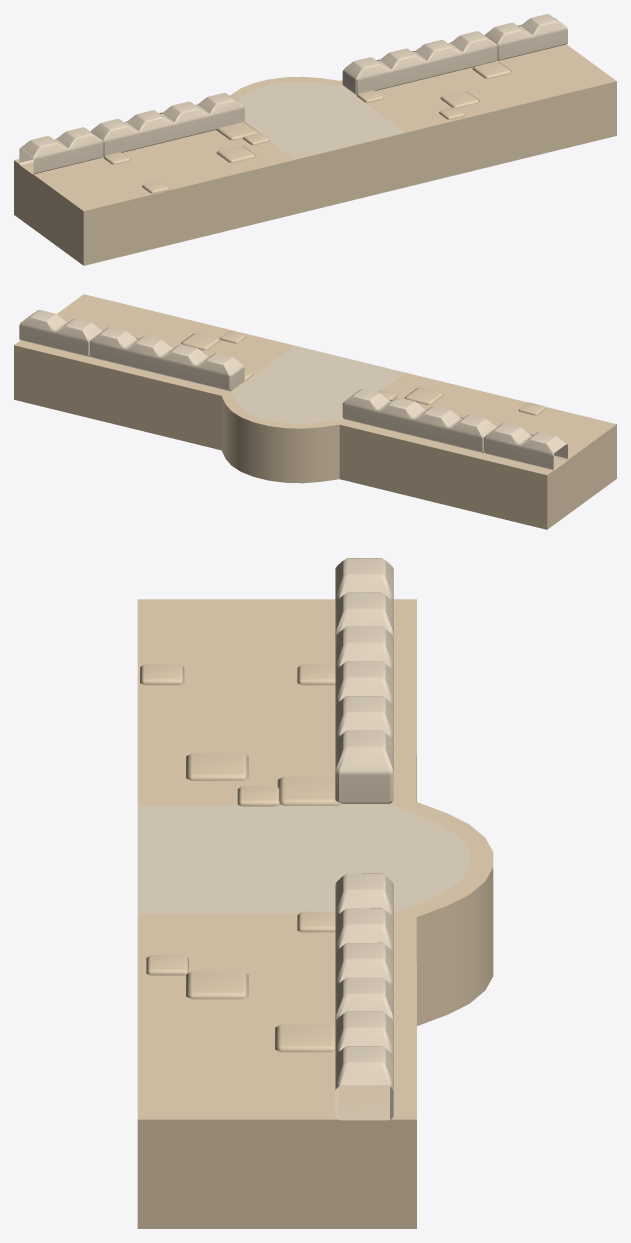
File: Castle_wall.fbx
3 renders of one model, top to bottom at view 1: azimuth 30°, elevation 25°; view 2: azimuth 150°, elevation 25°; view 3: azimuth 270°, elevation 25°, orthographic. The views are drawn at different scales.
Parts seen in each view (by area): view 1: polySurface3, polySurface5, polySurface6, polySurface4, Stones, Stones8, Stones2, Stones5; view 2: polySurface3, polySurface5, polySurface6, polySurface4, Stones2, Stones5; view 3: polySurface3, polySurface4, polySurface6, polySurface5, Stones5, Stones, Stones8, Stones2, Stones4, Stones1.
Part boxes in pixels (box(x1,y1,x2,y2)): polySurface3: box(14, 44, 616, 265); polySurface5: box(342, 31, 497, 95); polySurface6: box(19, 14, 567, 174); polySurface4: box(90, 93, 244, 156); Stones: box(216, 122, 258, 140); Stones8: box(472, 61, 511, 78); Stones2: box(216, 145, 256, 162); Stones5: box(440, 90, 479, 108); polySurface3: box(14, 294, 616, 529); polySurface5: box(90, 327, 244, 391); polySurface6: box(19, 310, 567, 470); polySurface4: box(342, 388, 496, 452); Stones2: box(404, 387, 444, 404); Stones5: box(181, 332, 220, 350); polySurface3: box(137, 599, 493, 1228); polySurface4: box(335, 626, 393, 803); polySurface6: box(335, 558, 393, 1120); polySurface5: box(335, 873, 393, 1021); Stones5: box(186, 971, 248, 999); Stones: box(277, 776, 342, 805); Stones8: box(275, 1024, 335, 1052); Stones2: box(186, 753, 248, 780); Stones4: box(140, 664, 184, 685); Stones1: box(237, 786, 280, 806).
Size of the model in its own units: 482 by 68.43 by 139.
